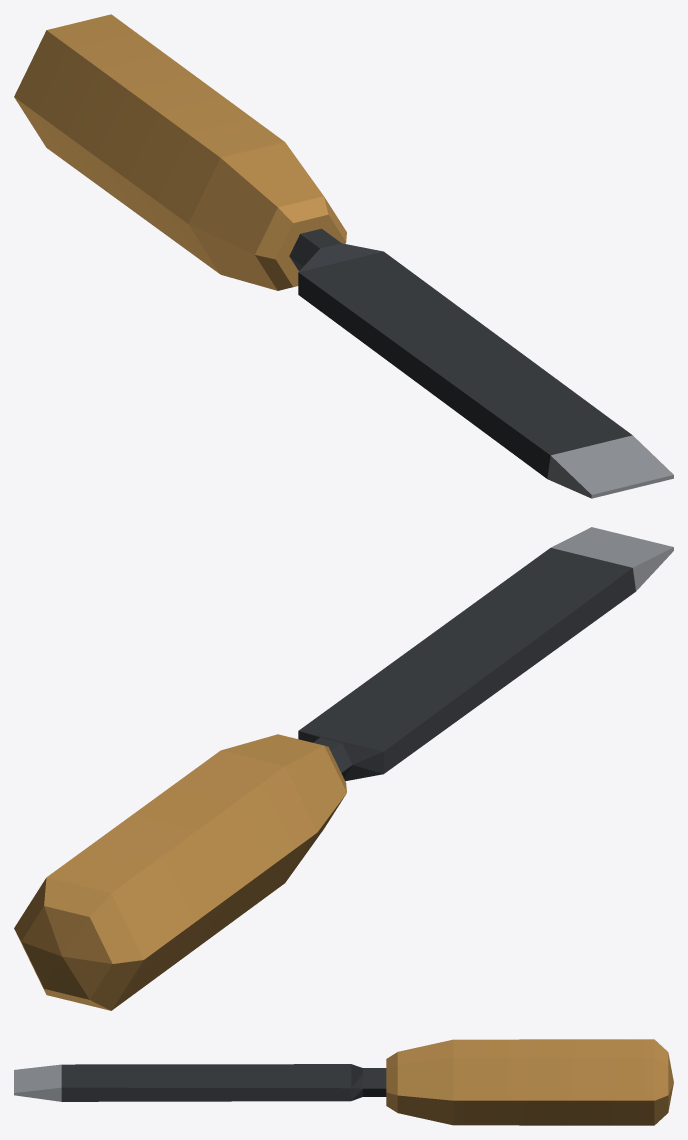
Rendered from SM_Item_Chisel_01.glb.
3 views of the same model, one above another, from view 1: azimuth 30°, elevation 25°; view 2: azimuth 150°, elevation 25°; view 3: azimuth 270°, elevation 25° (orthographic). The views are drawn at different scales.
Visible parts, largest first — view 1: SM_Item_Chisel_01; view 2: SM_Item_Chisel_01; view 3: SM_Item_Chisel_01.
Boxes of the visible parts, x1=… form: SM_Item_Chisel_01: x1=14, y1=14, x2=673, y2=498; SM_Item_Chisel_01: x1=14, y1=527, x2=673, y2=1010; SM_Item_Chisel_01: x1=14, y1=1039, x2=673, y2=1125.
Bounding box in the file's own units: 0.0516 × 0.0447 × 0.3931.
1 material, 1 textured.
